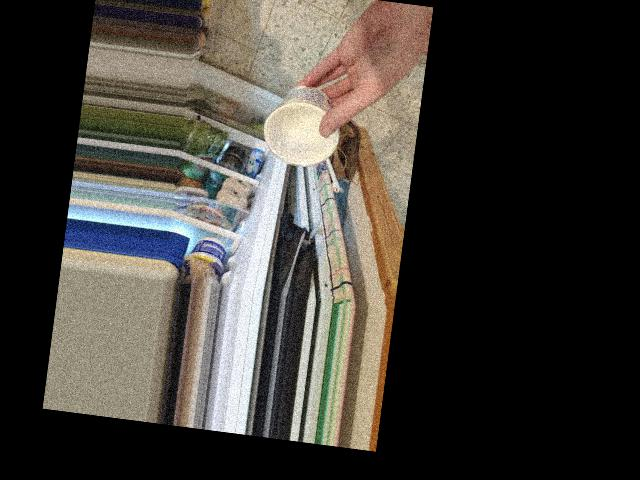cotage: (270, 77, 349, 170)
